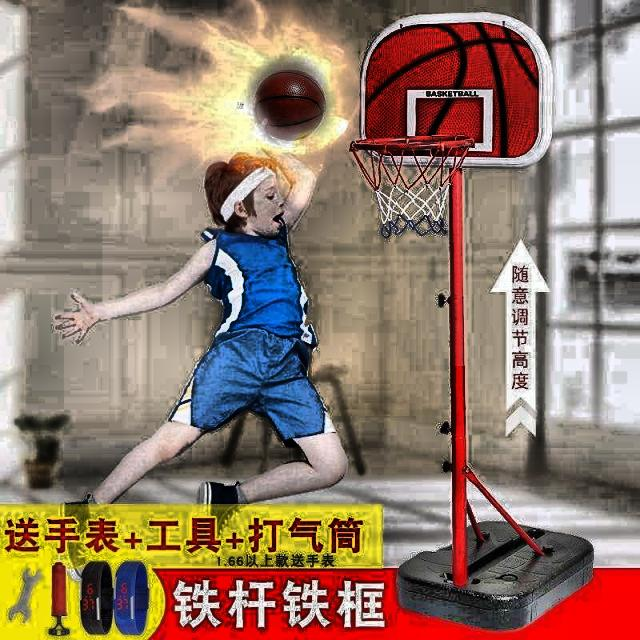board: (254, 69, 327, 141)
rim: (345, 136, 474, 239)
